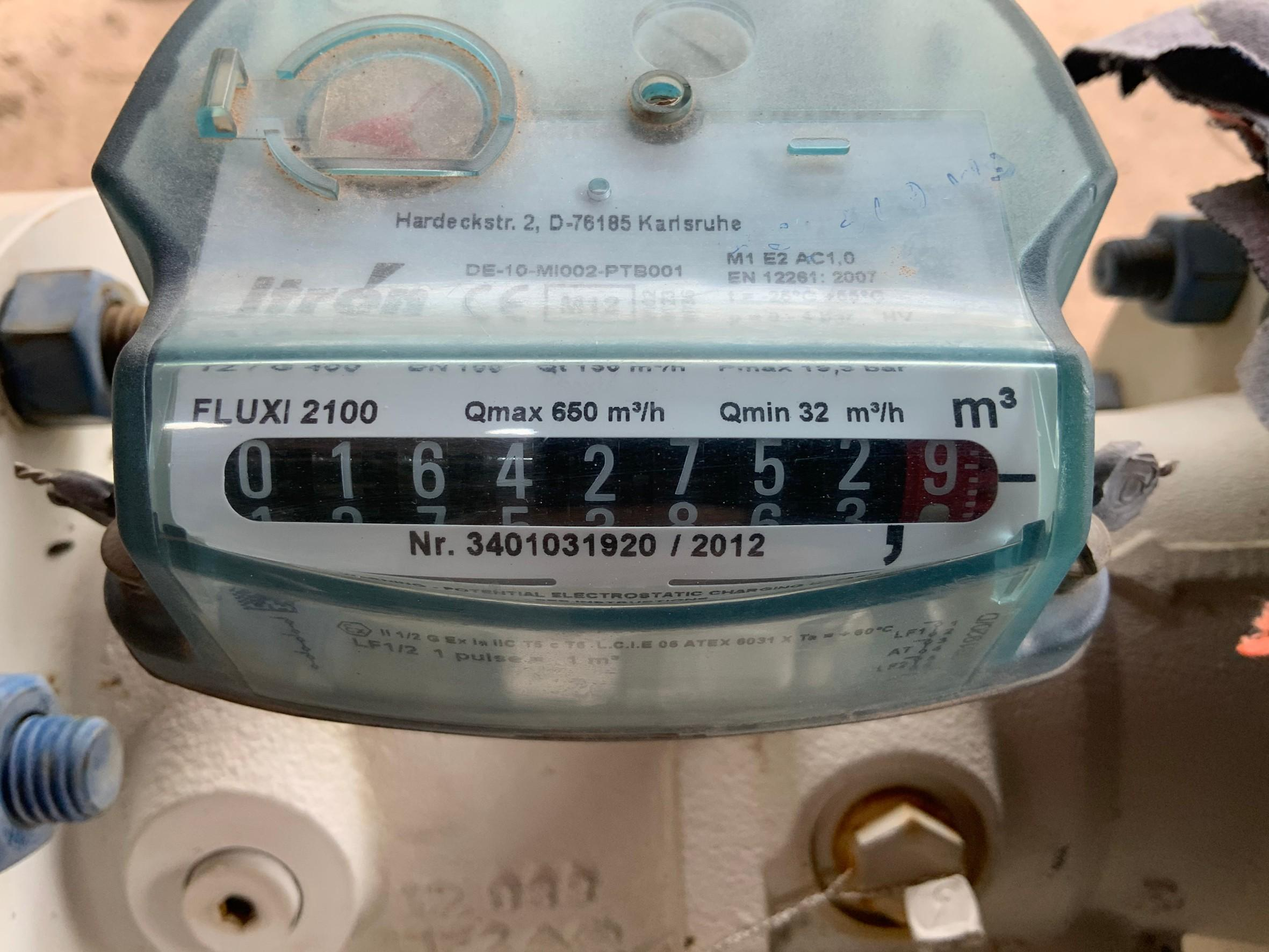analog_dial: (215, 424, 1037, 541)
